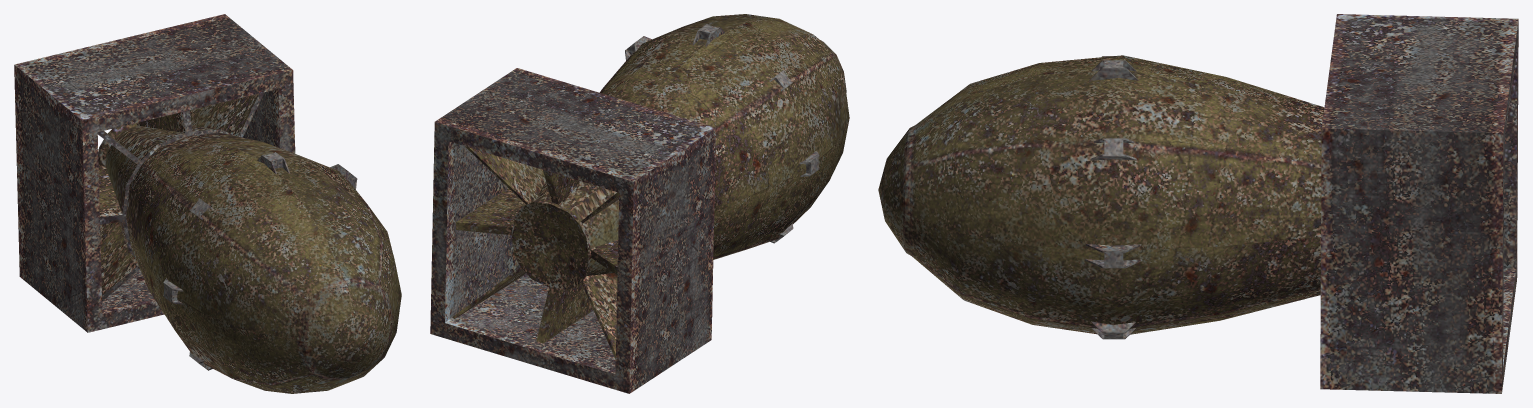
Rendered from MH_env_fat_man_00.fbx.
3 renders of one model, left to right at view 1: azimuth 30°, elevation 25°; view 2: azimuth 150°, elevation 25°; view 3: azimuth 270°, elevation 25°, orthographic. The views are drawn at different scales.
Parts seen in each view (by area): view 1: Fat_man; view 2: Fat_man; view 3: Fat_man.
Boxes of the visible parts, <box> form: Fat_man: <box>14,14,401,393</box>; Fat_man: <box>430,14,849,393</box>; Fat_man: <box>878,14,1518,393</box>.
Bounding box in the file's own units: 1.54 × 1.46 × 3.17.
Materials: 1 (1 with a texture image).
